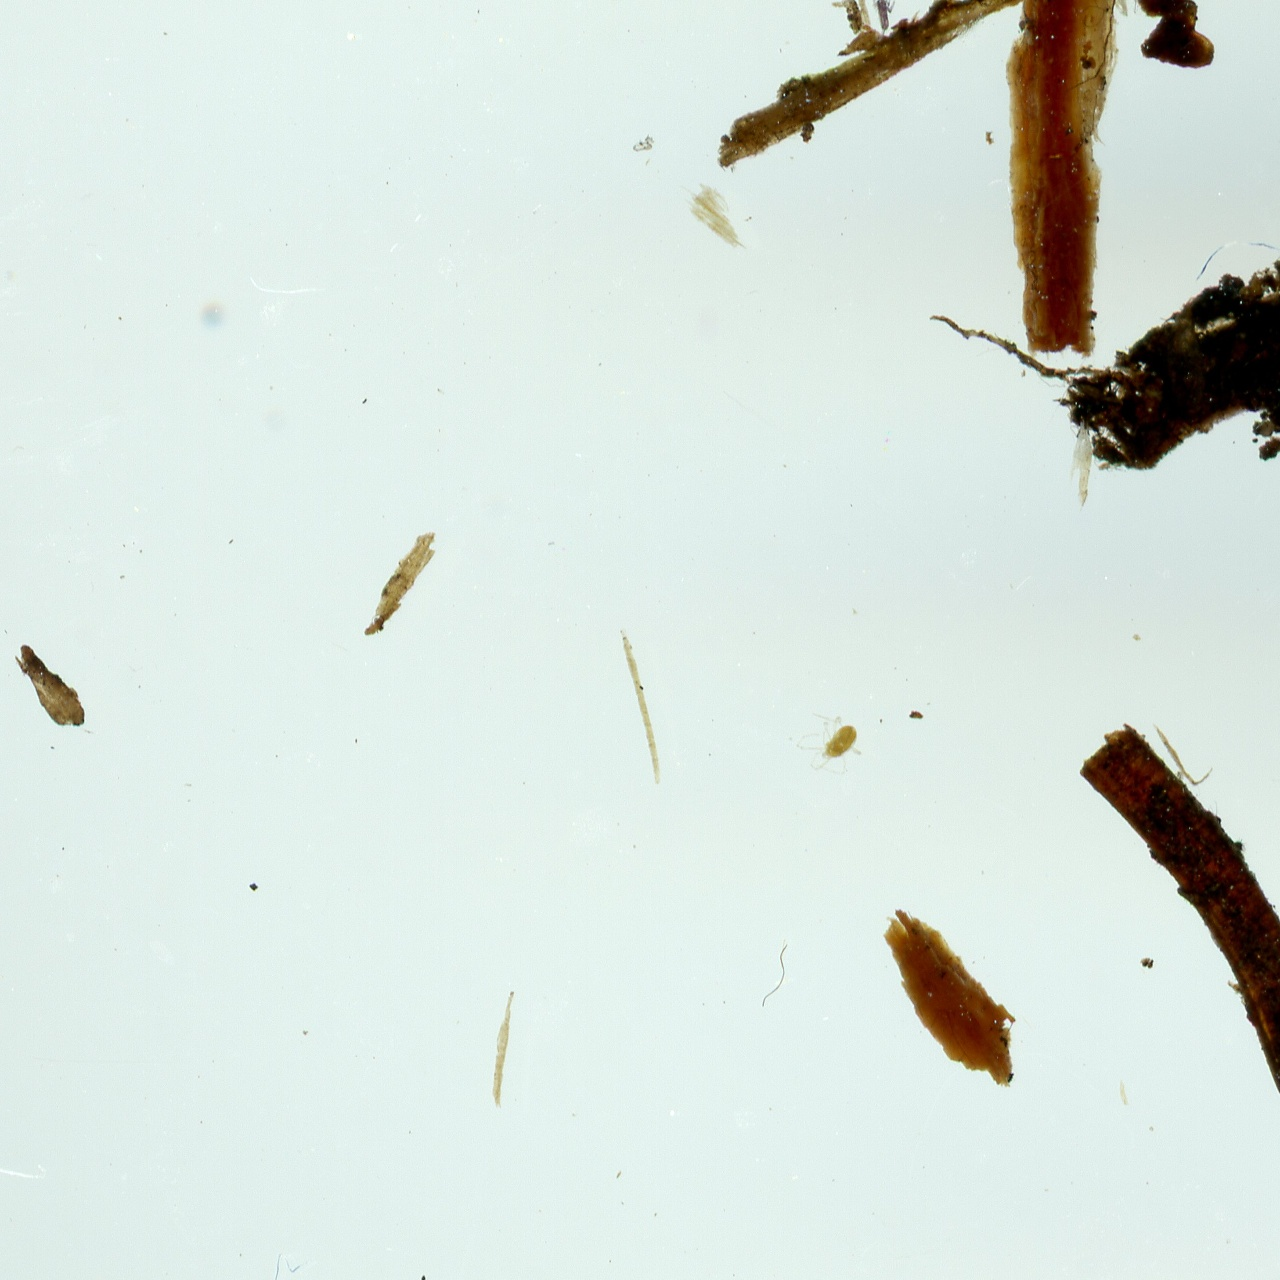arthropod: (793, 706, 871, 780), (869, 0, 901, 44)
